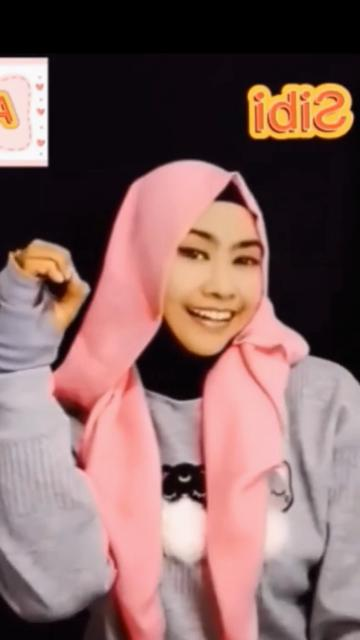O: (0, 235, 94, 373)
